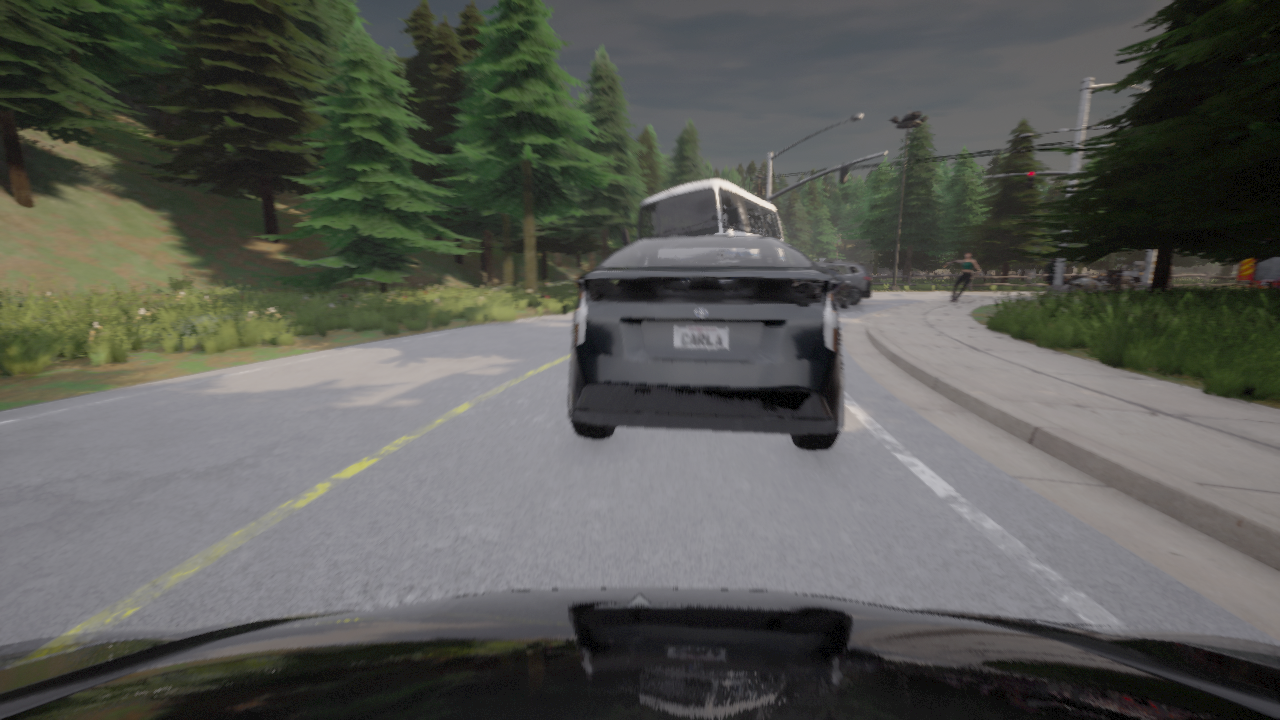cyclist: (0, 588, 1279, 719), (568, 236, 844, 450), (621, 179, 783, 246), (814, 262, 871, 305), (1092, 262, 1174, 291), (1236, 238, 1279, 288), (819, 267, 851, 307), (1063, 274, 1114, 292)
pedestrian: (944, 251, 979, 302), (1040, 258, 1056, 284)
